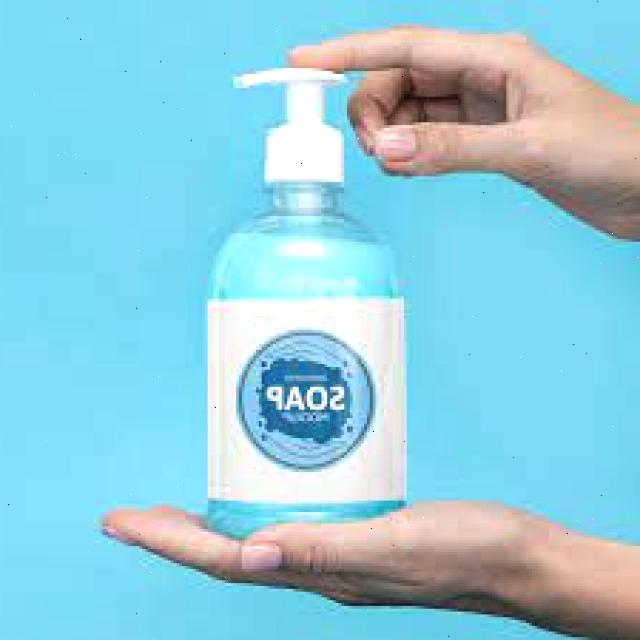liquid soap: (197, 66, 412, 550)
